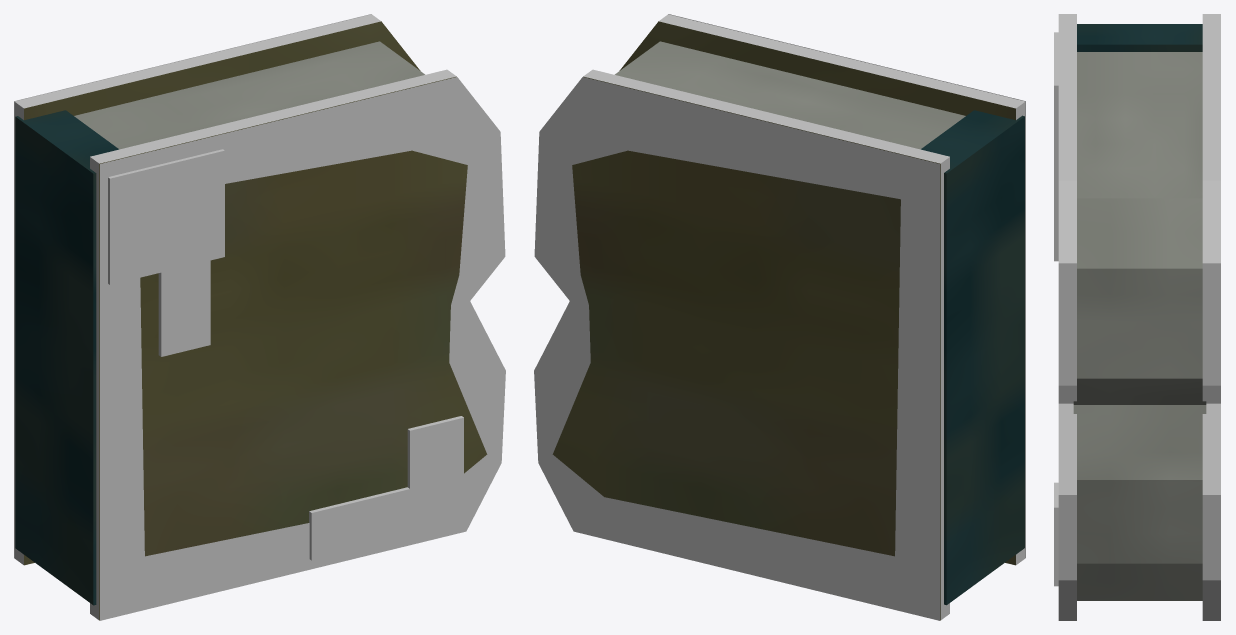
Rendered from cutout.obj.
The picture shows the model from 3 angles, left to right: view 1: azimuth 30°, elevation 25°; view 2: azimuth 150°, elevation 25°; view 3: azimuth 270°, elevation 25°; orthographic projection. The views are drawn at different scales.
Bounding box in the file's own units: 0.4775 × 0.51 × 0.1778.
